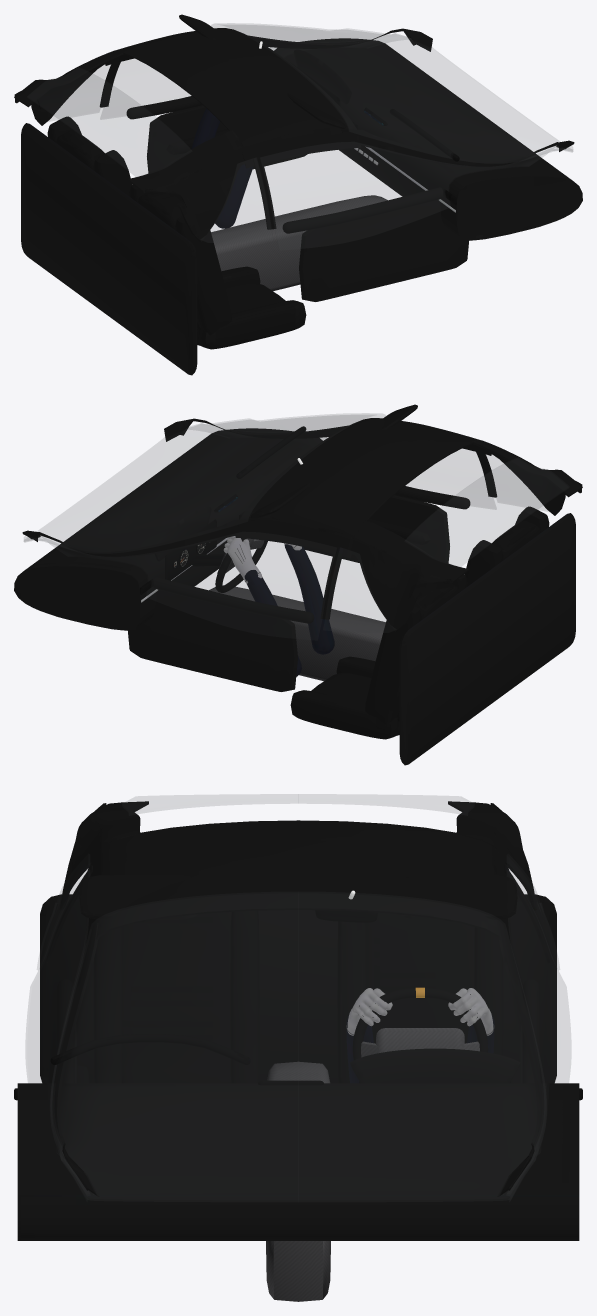
File: rpx_hyperion_cockpit.glb
3 renders of one model, top to bottom at view 1: azimuth 30°, elevation 25°; view 2: azimuth 150°, elevation 25°; view 3: azimuth 270°, elevation 25°, orthographic. The views are drawn at different scales.
Parts seen in each view (by area): view 1: cockpit_shell, cabin_glass, window_R, window_L, hands; view 2: cockpit_shell, cabin_glass, window_L, hands, window_R, steering_wheel; view 3: cockpit_shell, cabin_glass, window_L, window_R, steering_wheel, hands.
Part boxes in pixels (x1,y1,x2,y2): cockpit_shell: [14, 14, 582, 375]; cabin_glass: [28, 23, 572, 242]; window_R: [260, 142, 557, 249]; window_L: [113, 37, 410, 104]; hands: [191, 108, 253, 228]; cockpit_shell: [14, 404, 582, 765]; cabin_glass: [24, 413, 568, 632]; window_L: [38, 532, 336, 639]; hands: [223, 536, 334, 676]; window_R: [186, 427, 483, 494]; steering_wheel: [215, 538, 267, 592]; cockpit_shell: [14, 801, 582, 1301]; cabin_glass: [37, 794, 559, 1201]; window_L: [507, 869, 570, 1154]; window_R: [26, 869, 89, 1153]; steering_wheel: [352, 987, 488, 1060]; hands: [346, 988, 494, 1083].
Size of the model in its own units: 1.98 by 1.01 by 1.54.
5 materials, 3 textured.
